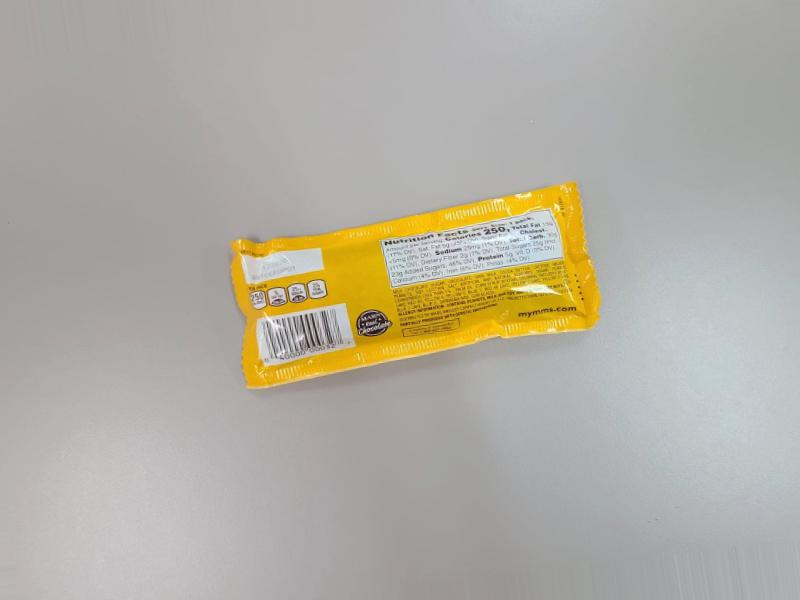m&m: (209, 193, 597, 389)
